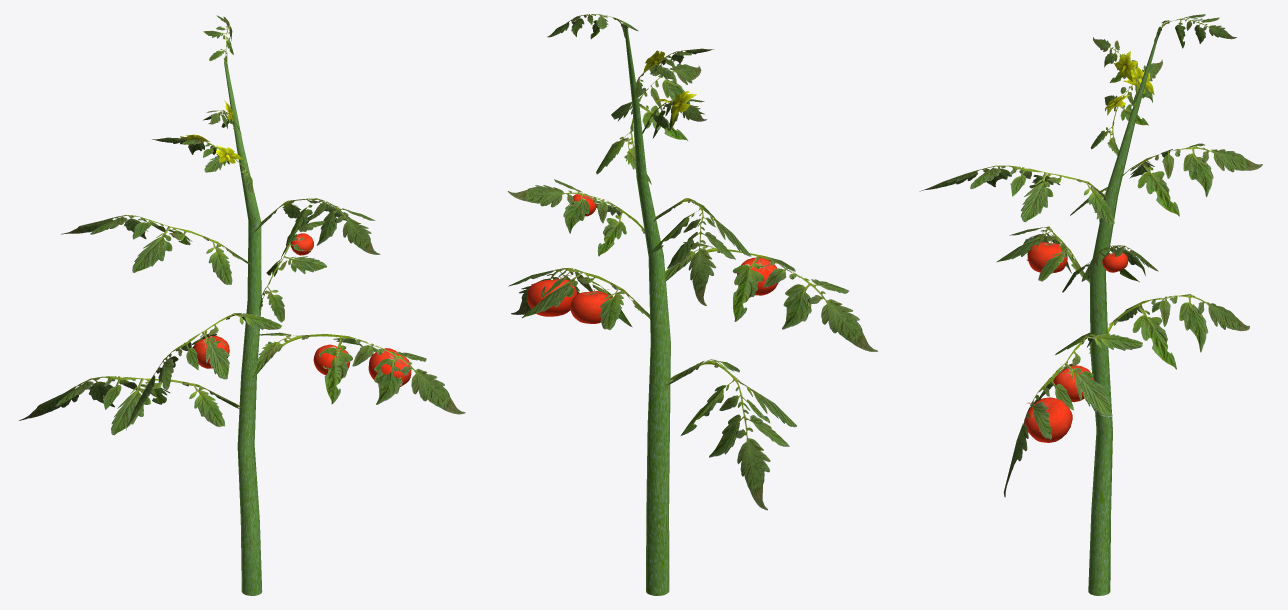
The model's file is Tomato_Plant.glb.
3 views of the same model, side by side, from view 1: azimuth 30°, elevation 25°; view 2: azimuth 150°, elevation 25°; view 3: azimuth 270°, elevation 25° (orthographic). The views are drawn at different scales.
Parts seen in each view (by area): view 1: unnamed; view 2: unnamed; view 3: unnamed.
Part boxes in pixels (left/top/right/bottom): unnamed: left=19, top=15, right=465, bottom=595; unnamed: left=507, top=14, right=878, bottom=595; unnamed: left=919, top=14, right=1262, bottom=595.
Bounding box in the file's own units: 208 × 312 × 176.
Materials: 1 (1 with a texture image).
